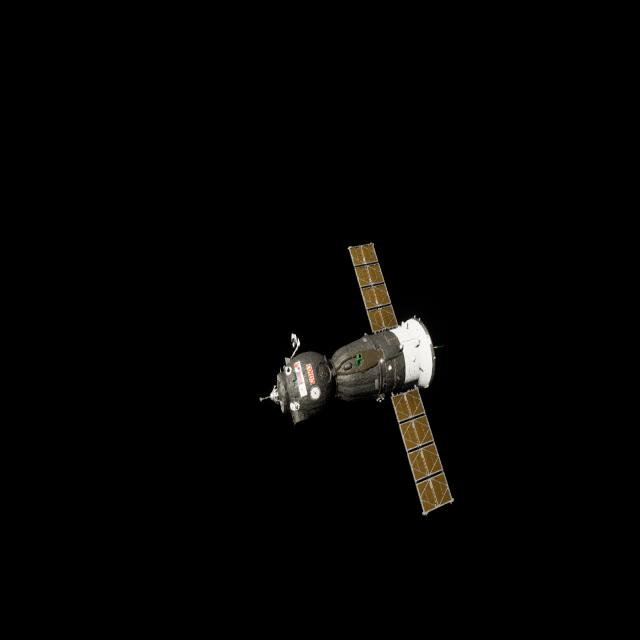Satellites revolving around earth: (258, 238, 456, 518)
